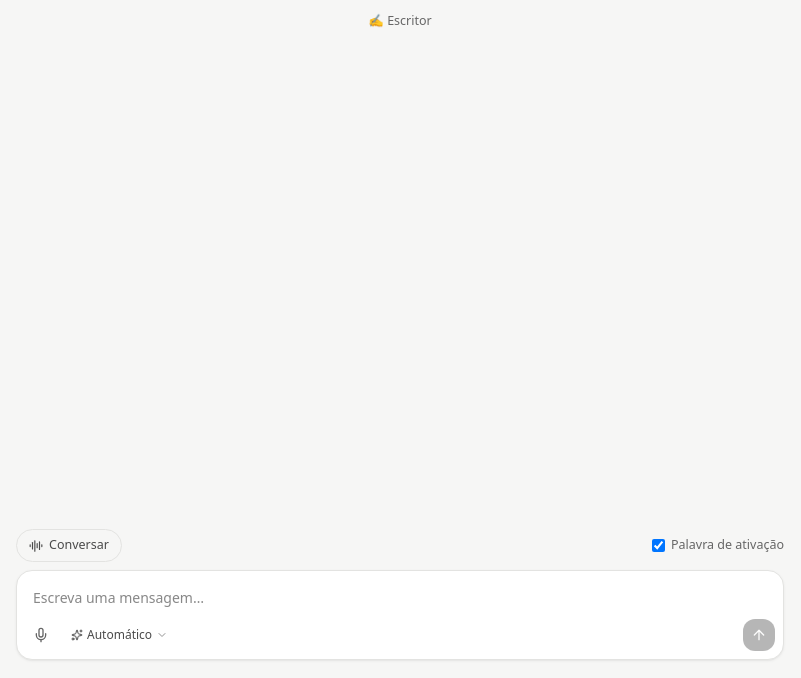
Test: Models and spending per person › offers a person only the models they and the assistant may use
What coordinates should you click on to do the following:
click the button with aria-label "Modelo da conversa"
I would click on:
 (120, 635)
Its box is [61,621,178,649].
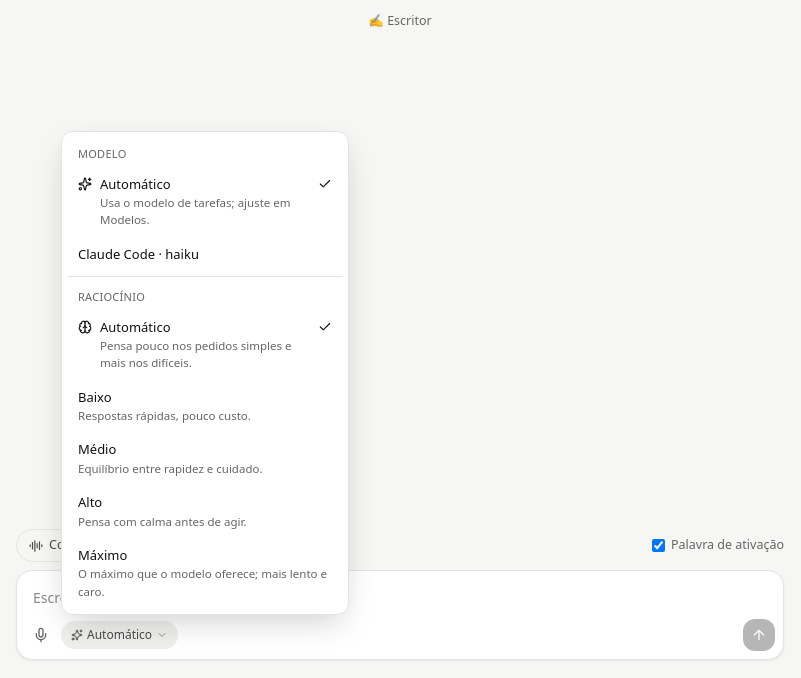
expect the menu item "Claude Code · haiku" is shown: met, box [78,244,199,262]
